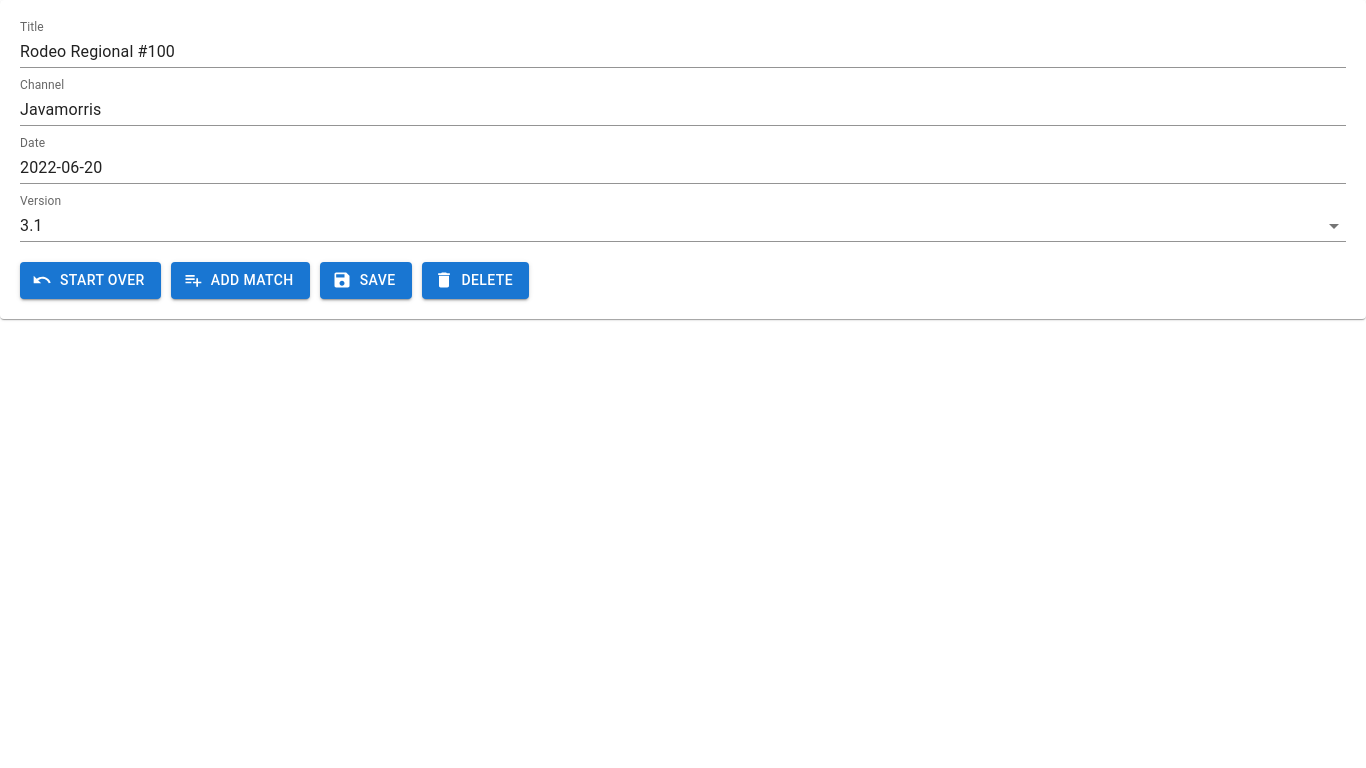
Timestamps › rejects a tournament with one empty match and shows correct validation errors
Click the button "Add Match": (240, 280) x1=171 y1=262 x2=310 y2=298
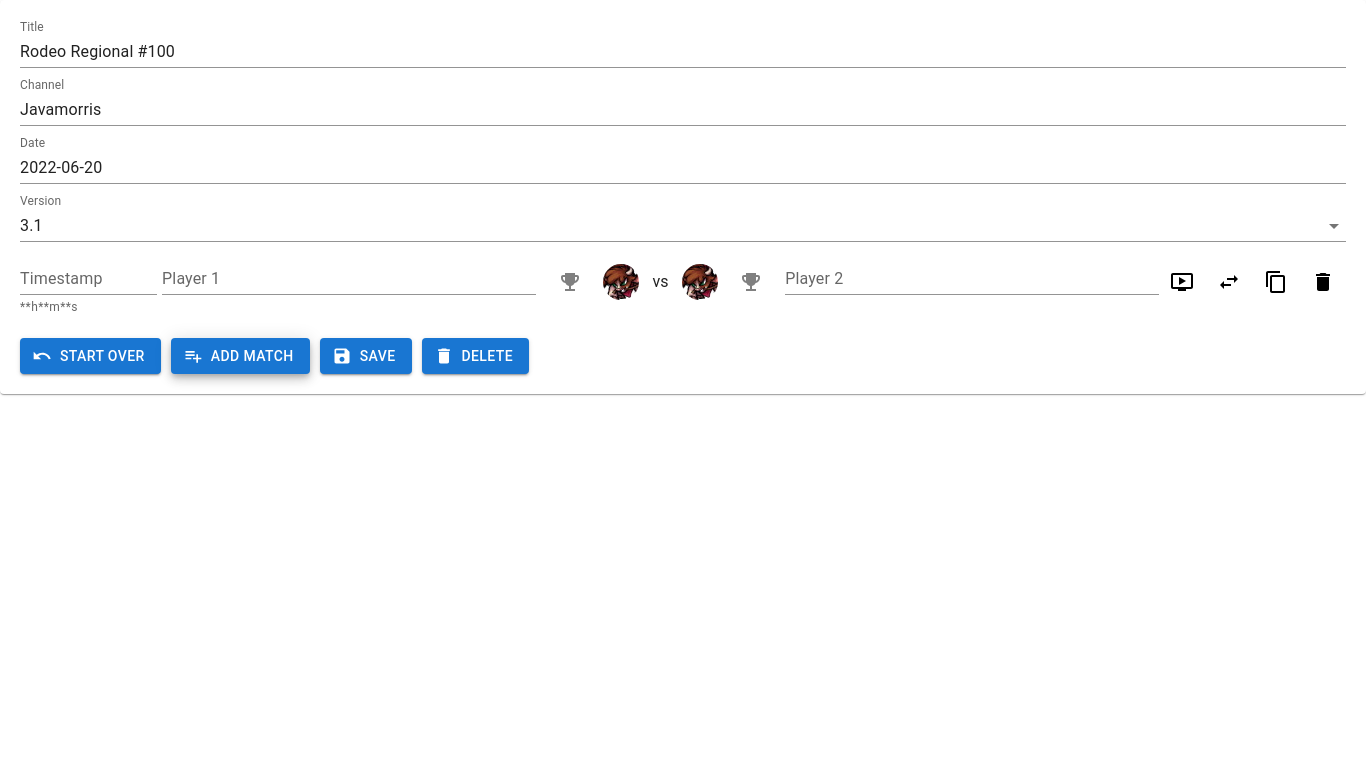
Click the button "Save": (366, 356) x1=320 y1=338 x2=412 y2=374
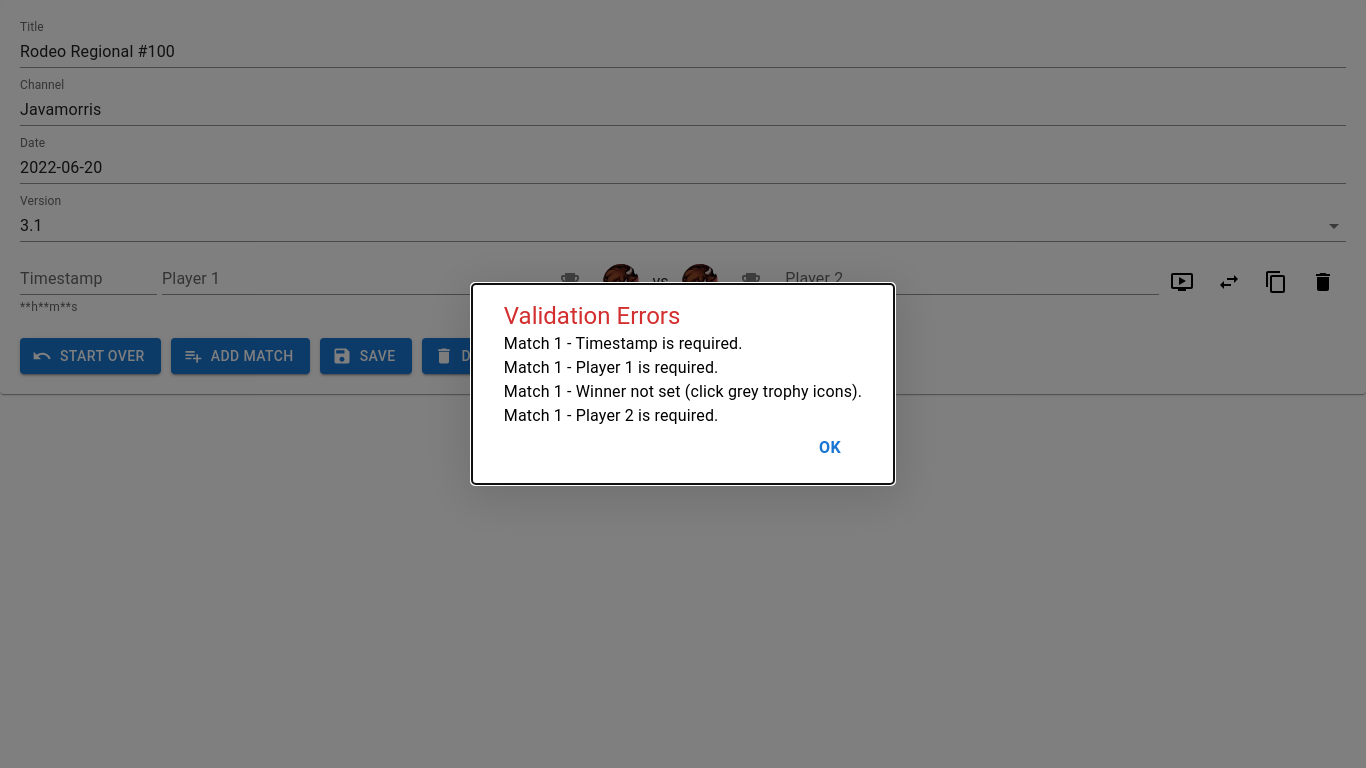
Result: the text "Match 1 - Timestamp is required." is shown at x1=504 y1=334 x2=742 y2=353
Result: the text "Match 1 - Player 1 is required." is shown at x1=504 y1=358 x2=718 y2=377
Result: the text "Match 1 - Winner not set (click grey trophy icons)." is shown at x1=504 y1=380 x2=862 y2=404
